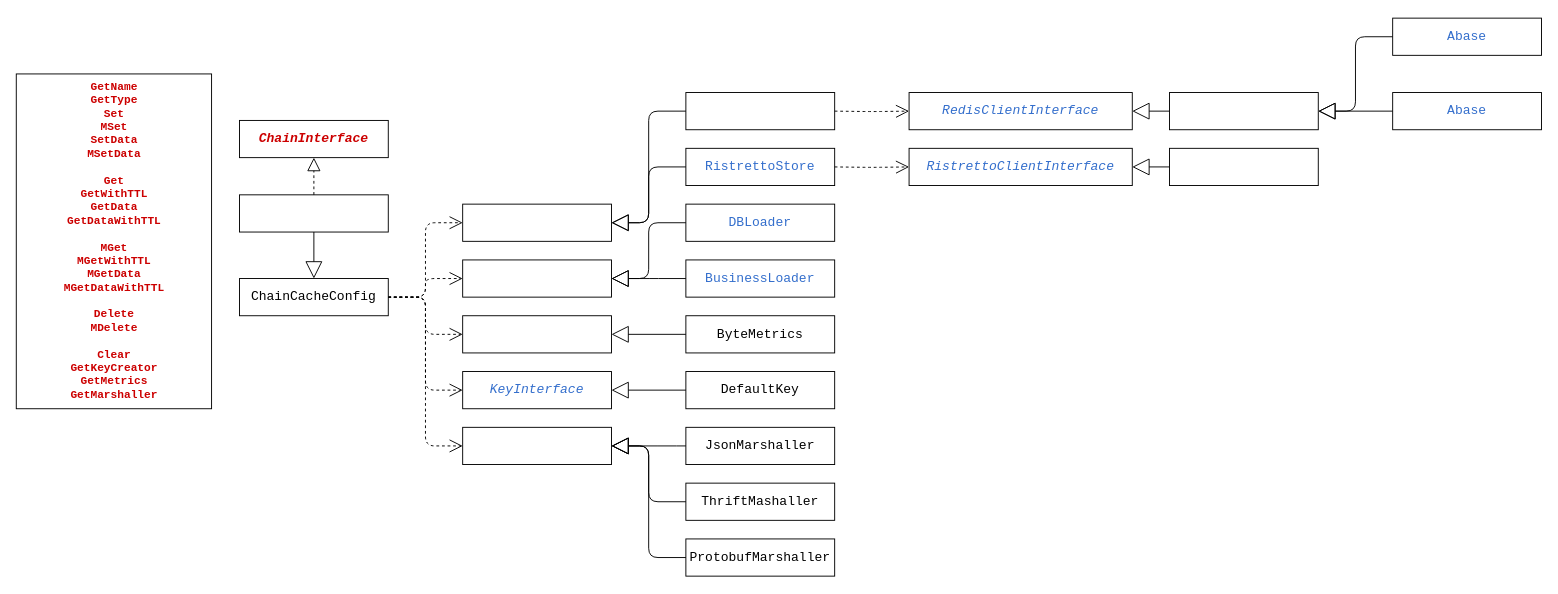
Image size: 1558x594. Some labels were removed from this diagram. Each missing label, with the centre of its shape:
ChainCache: (x=313, y=213)
LoadInterface: (x=536, y=278)
MarshalInterface: (x=536, y=445)
MetricsInterface: (x=536, y=334)
RedisClient: (x=1243, y=111)
RedisStore: (x=760, y=111)
Ristretto: (x=1243, y=166)
StoreInterface: (x=536, y=222)
